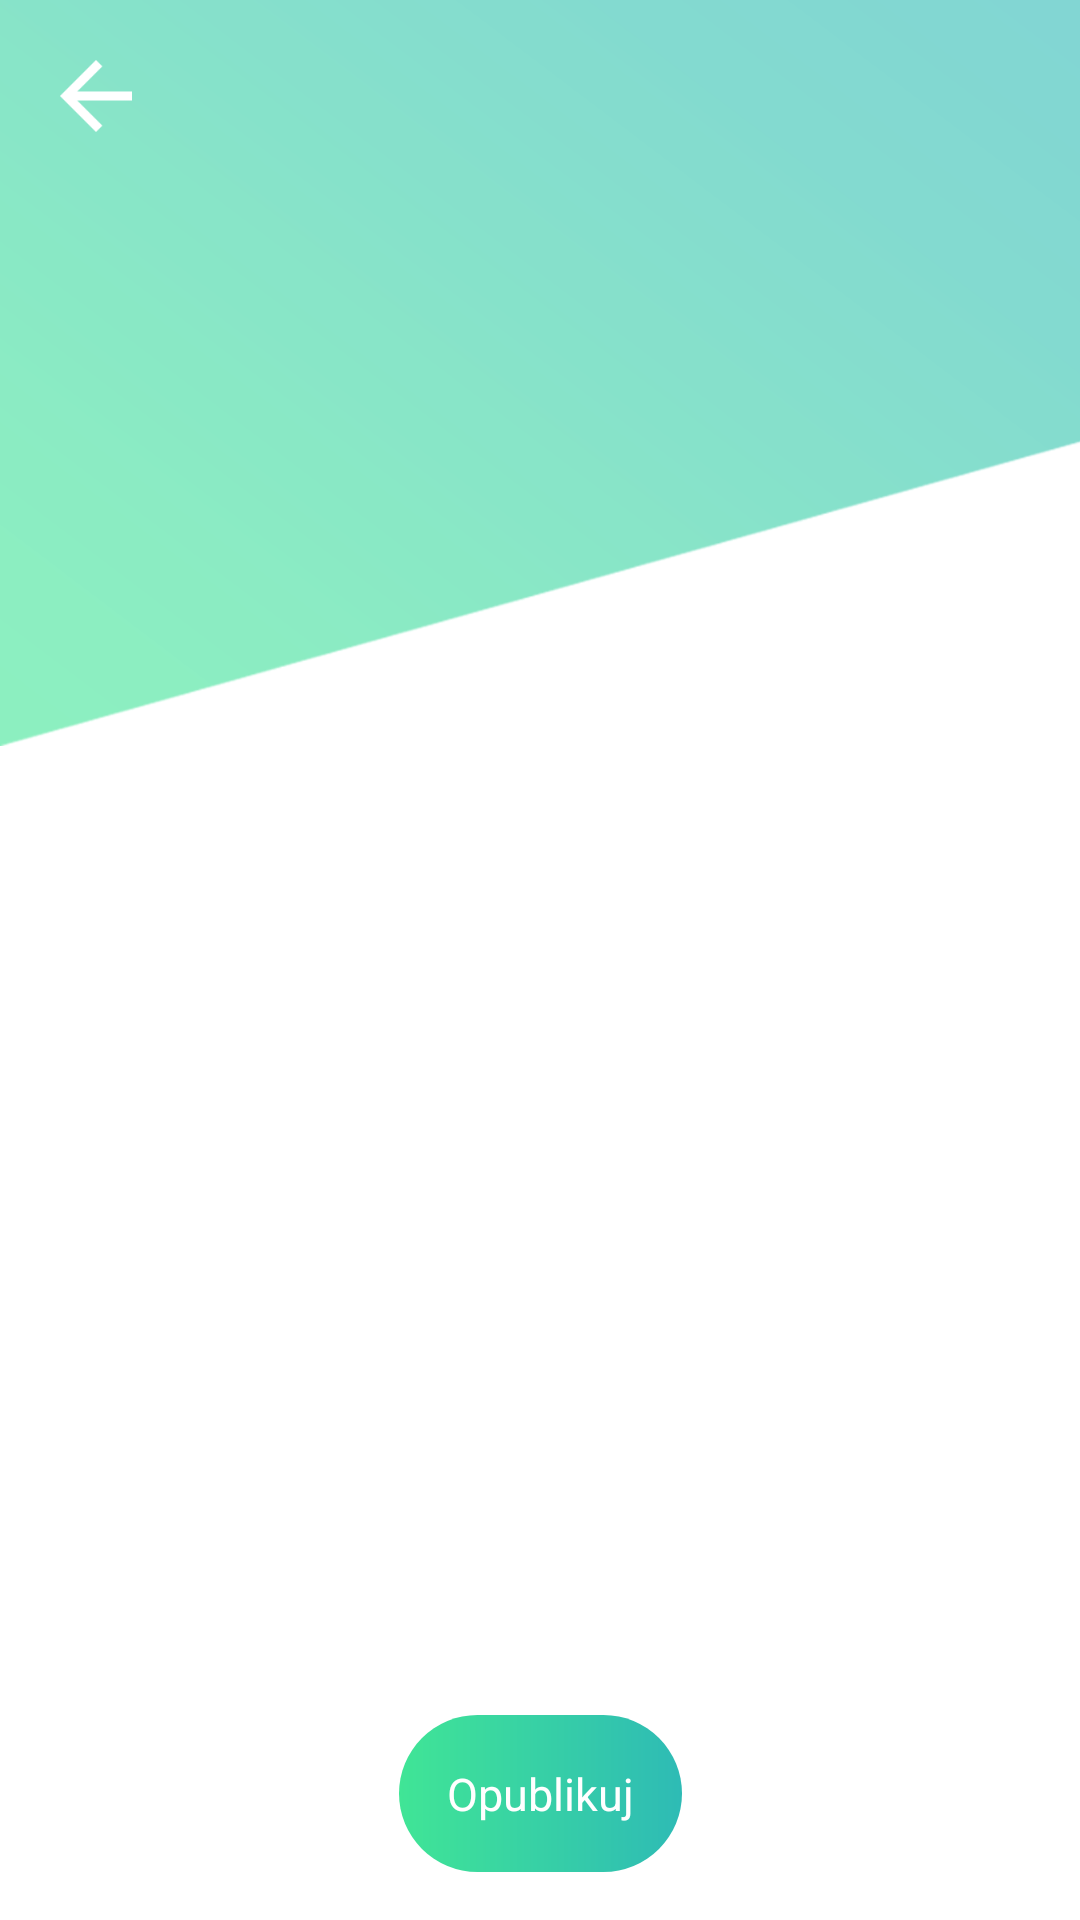

Named icons in this screenshot (1080 × 1920) and their bounding boxes, box=[x1, y1, x2, y2]:
arrow back kopia: box=[60, 60, 132, 132]
